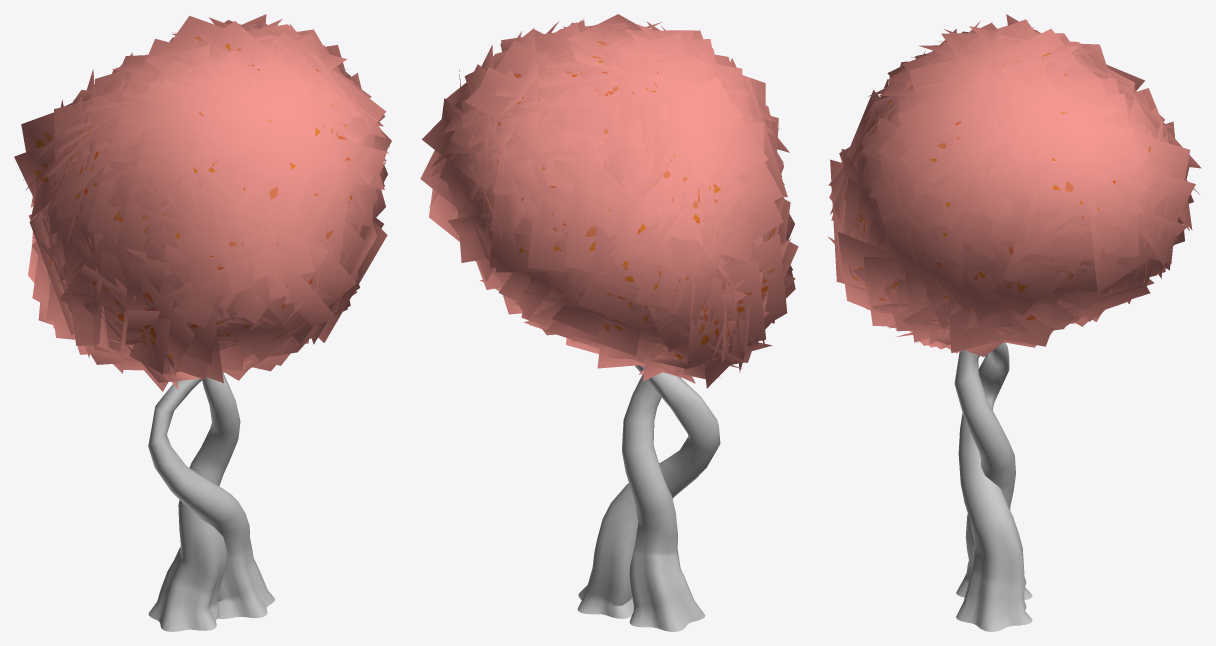
The model's file is Tree2b.fbx.
The picture shows the model from 3 angles, left to right: view 1: azimuth 30°, elevation 25°; view 2: azimuth 150°, elevation 25°; view 3: azimuth 270°, elevation 25°; orthographic projection. The views are drawn at different scales.
Visible parts, largest first — view 1: extracted_01, Tree2_1; view 2: extracted_01, Tree2_1; view 3: extracted_01, Tree2_1.
Boxes of the visible parts, x1,y1,x2,y2 form: extracted_01: (14,14,391,391); Tree2_1: (148,372,274,631); extracted_01: (420,14,798,388); Tree2_1: (577,365,720,631); extracted_01: (828,14,1201,356); Tree2_1: (954,342,1032,631).
Size of the model in its own units: 839 by 1388 by 830.
